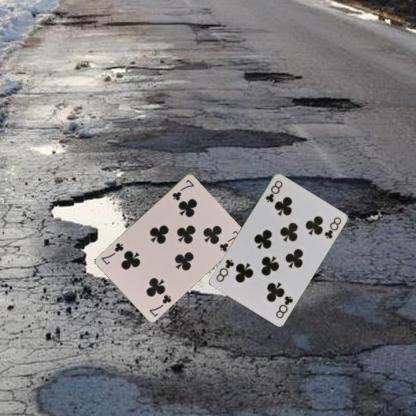7c: (147, 292, 173, 318), (170, 176, 195, 202)
8c: (273, 291, 294, 320), (263, 178, 284, 204)
